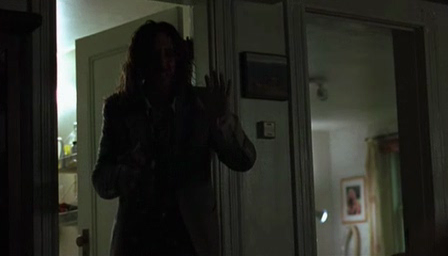face: (143, 37, 177, 85)
ms: (1, 1, 448, 256)
person: (90, 20, 258, 256)
